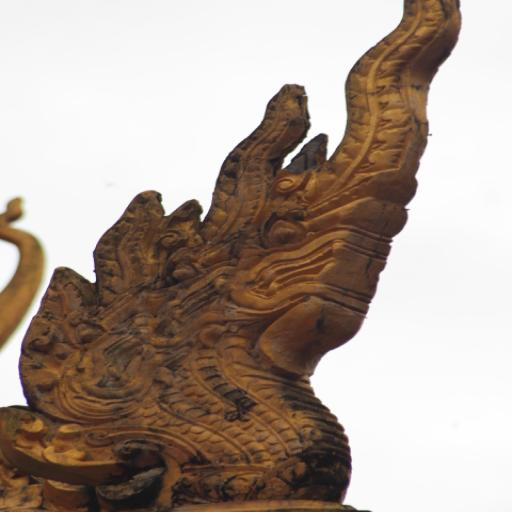ran: (0, 11, 468, 512)
